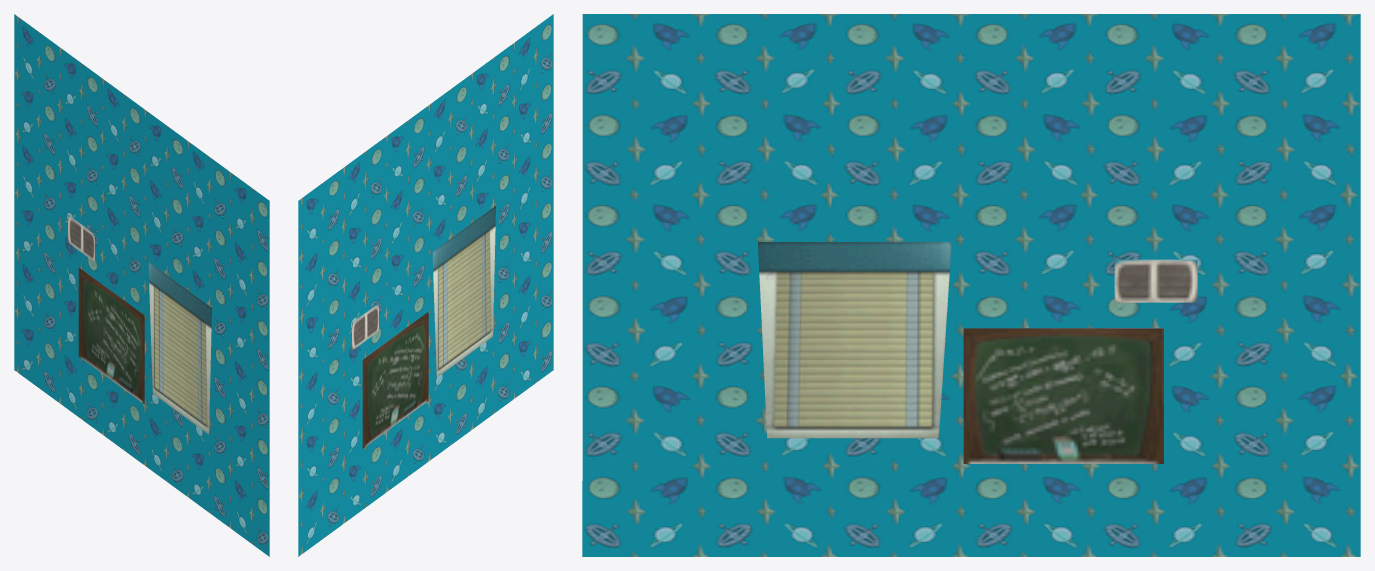
File: Jwall01.glb
3 renders of one model, left to right at view 1: azimuth 30°, elevation 25°; view 2: azimuth 150°, elevation 25°; view 3: azimuth 270°, elevation 25°, orthographic. The views are drawn at different scales.
Visible parts, largest first — view 1: Jwall01; view 2: Jwall01; view 3: Jwall01.
Part boxes in pixels (box(x1,y1,x2,y2)): Jwall01: box(14, 14, 269, 556); Jwall01: box(298, 14, 553, 556); Jwall01: box(582, 14, 1360, 556).
Bounding box in the file's own units: 0.000488 × 924 × 1200.
4 materials, 4 textured.
